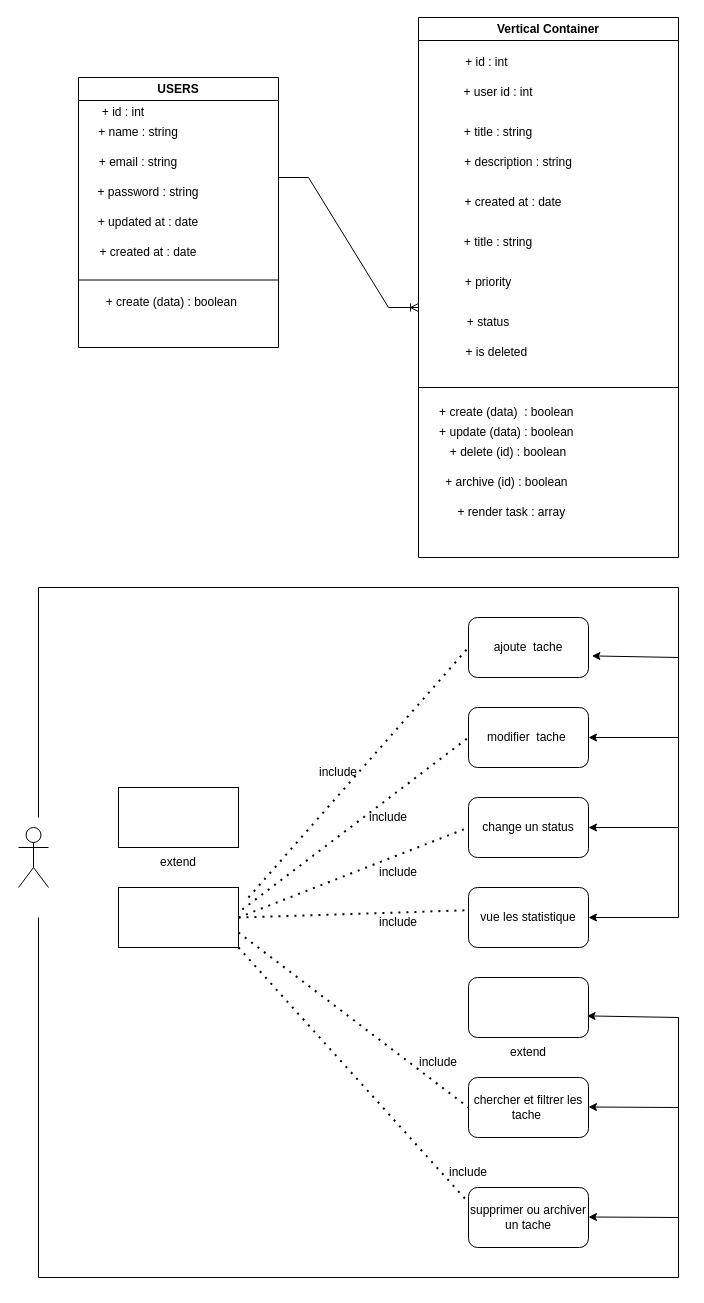
Image size: 704x1303. Some labels were removed from this diagram. Here are the shapes that lost their labels. From the top down, the centre of each, then its label:
At (178,817): "register action".
At (33,857): "USER".
At (178,917): "login action".
At (528,1007): "vue les tache avec filtrage".
